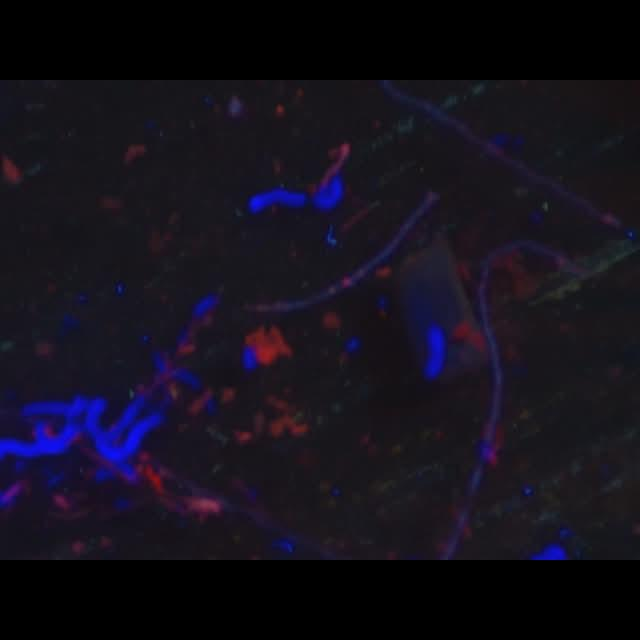Fragment: (245, 323, 292, 365)
